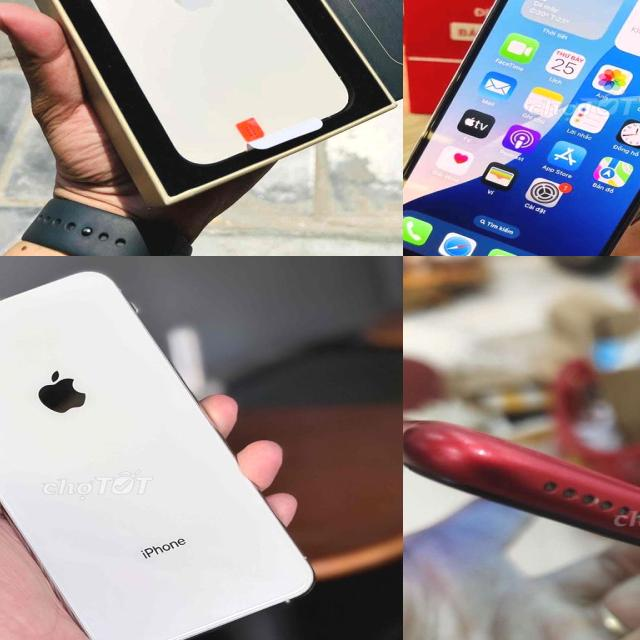gen_11: (403, 415, 640, 618)
gen_12_13: (403, 0, 640, 256), (89, 0, 346, 164)
gen_x_xs: (0, 272, 313, 640)
